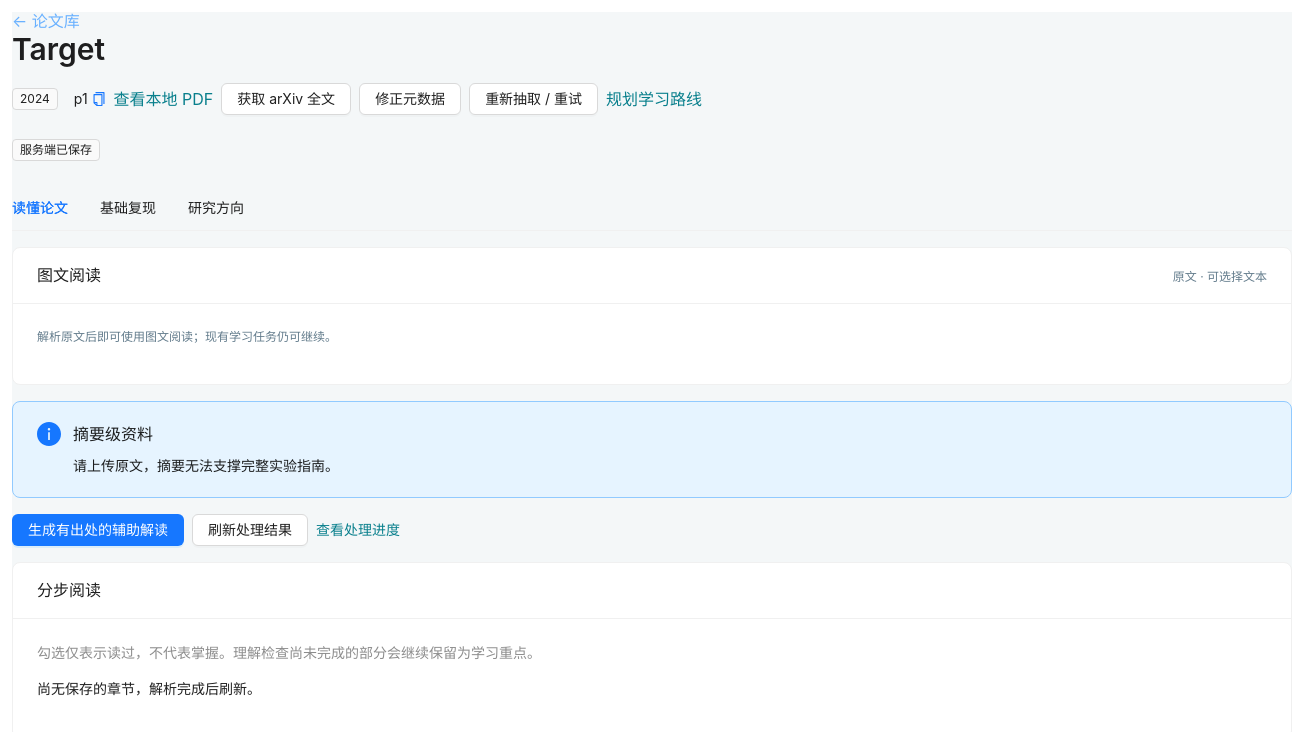
it: one paper links reading, reproduction and research without claiming verification
The width and height of the screenshot is (1292, 732).
Check: the heading "Target" is shown, box [12,31,105,67]
Check: the text "摘要级资料" is shown, box [73,424,153,444]
Click the tab "基础复现" at {"x": 128, "y": 208}, box [100,197,156,219]
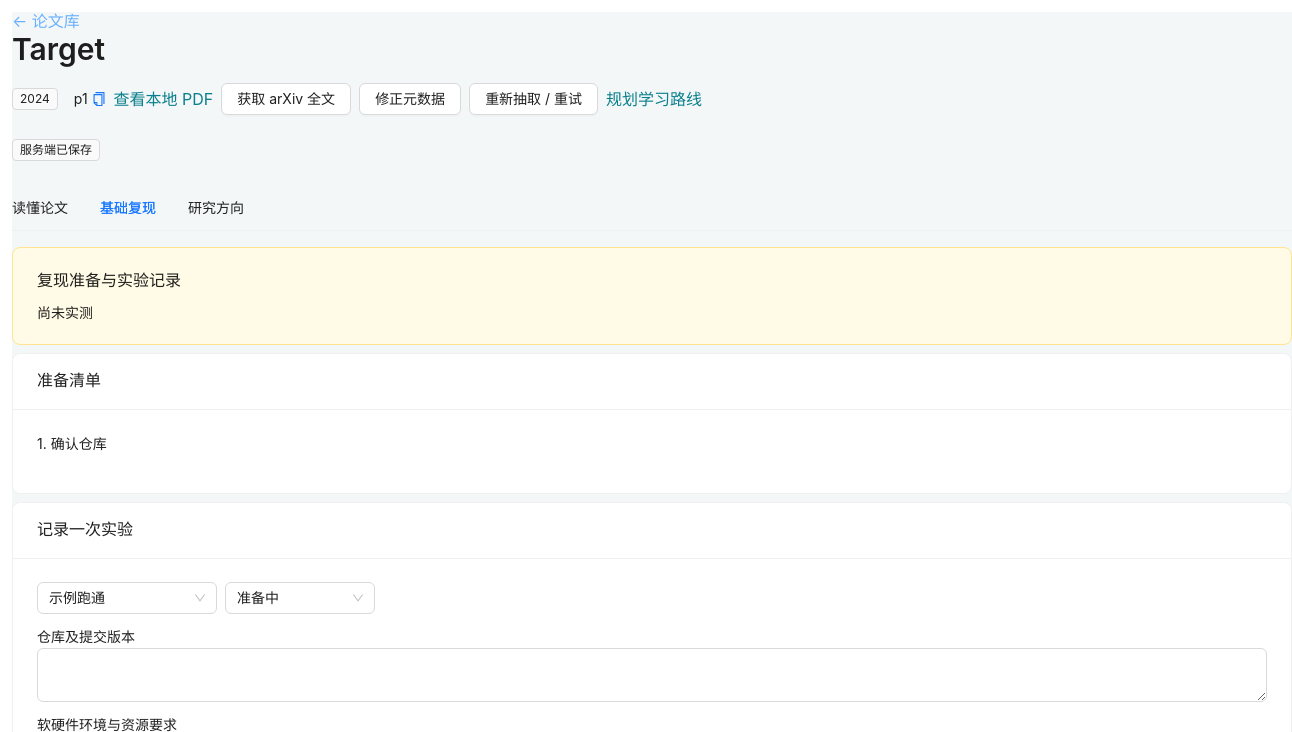
Check: the text "尚未实测" is shown, box [37,304,93,320]
Click the tab "研究方向" at {"x": 216, "y": 208}, box [188,197,244,219]
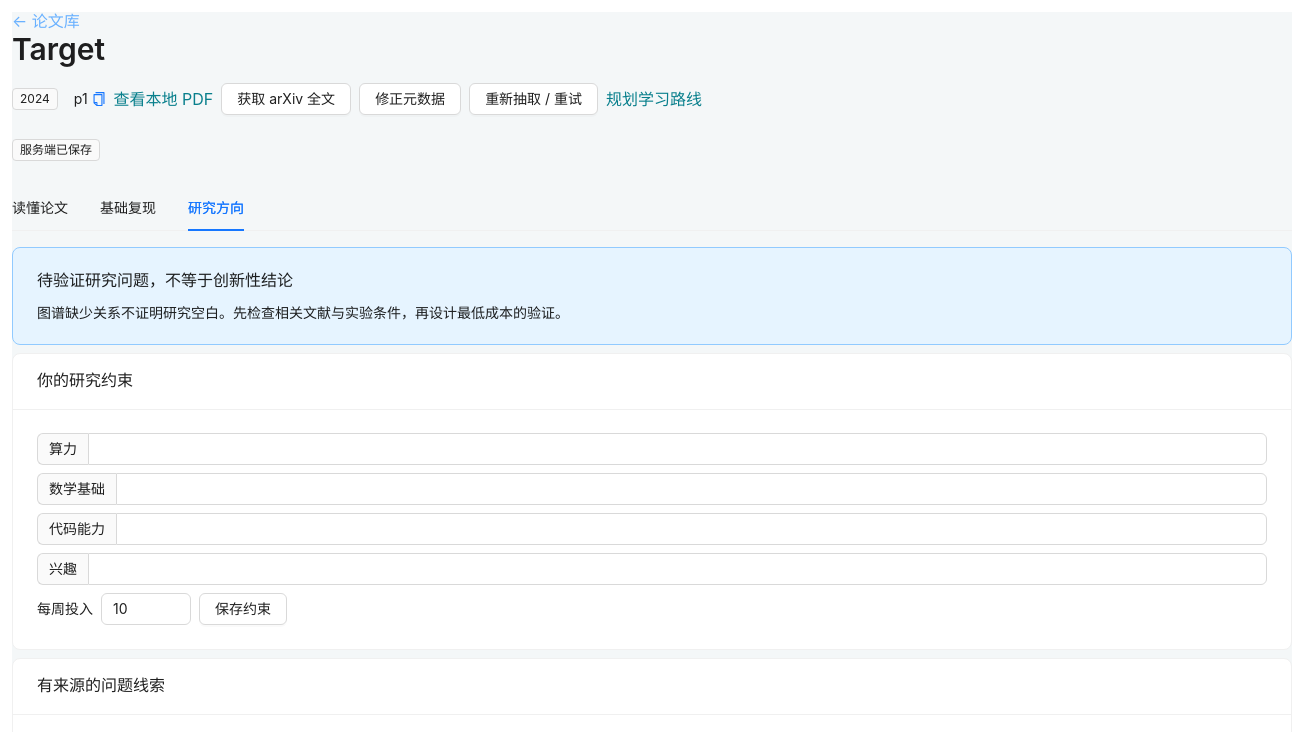
Check: the text "待验证研究问题，不等于创新性结论" is shown, box [37,270,293,290]
